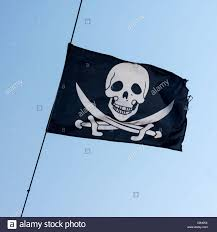Jolly Roger Flag: (44, 43, 197, 154)
